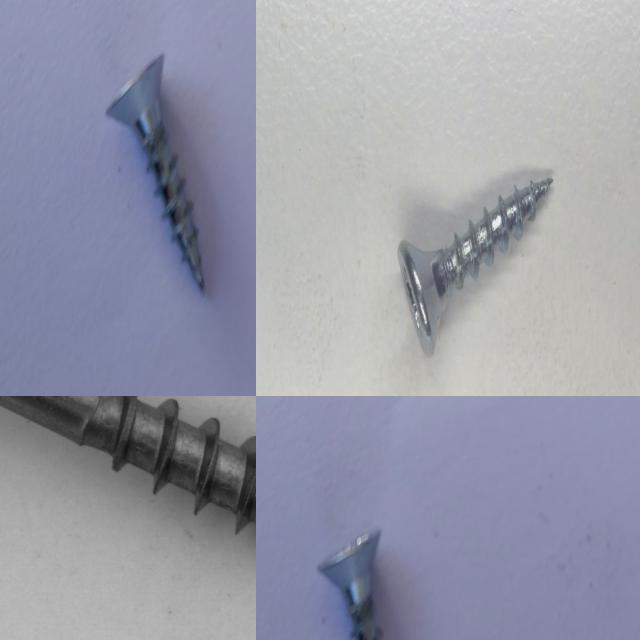Screw: (0, 396, 256, 610), (398, 177, 552, 355), (106, 53, 204, 289), (318, 529, 382, 640)
